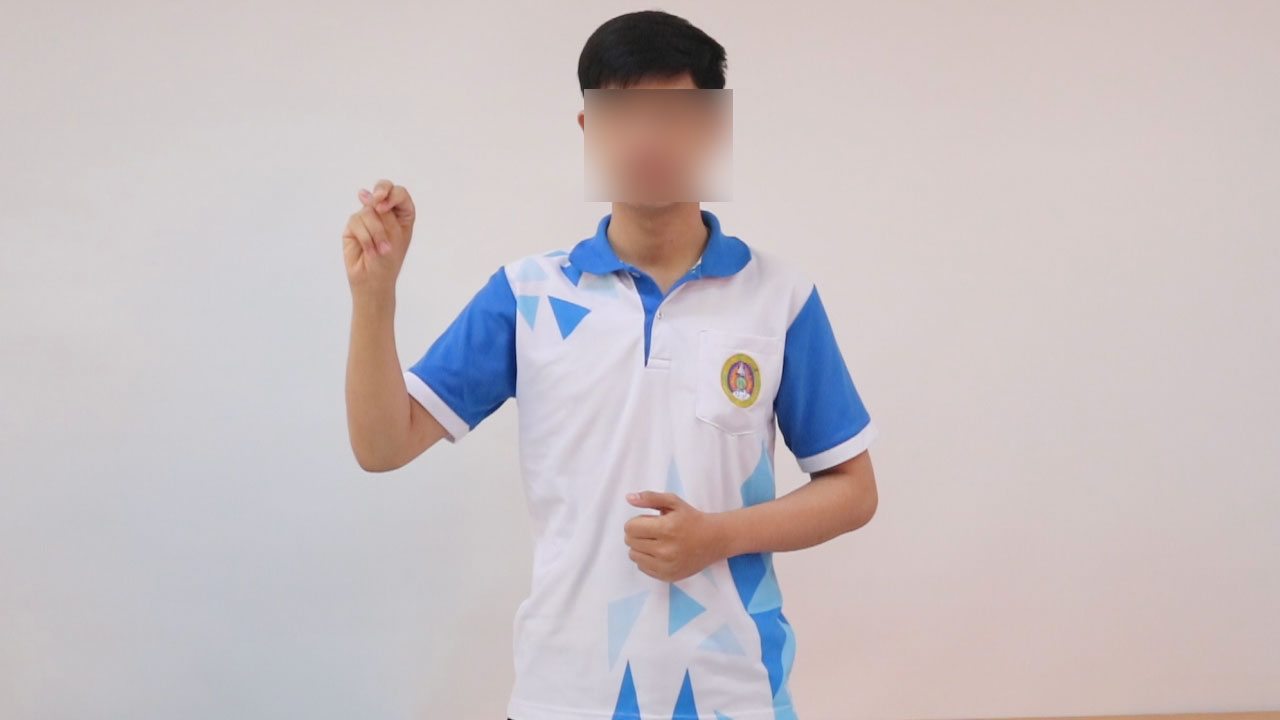nor: (329, 169, 420, 296)
